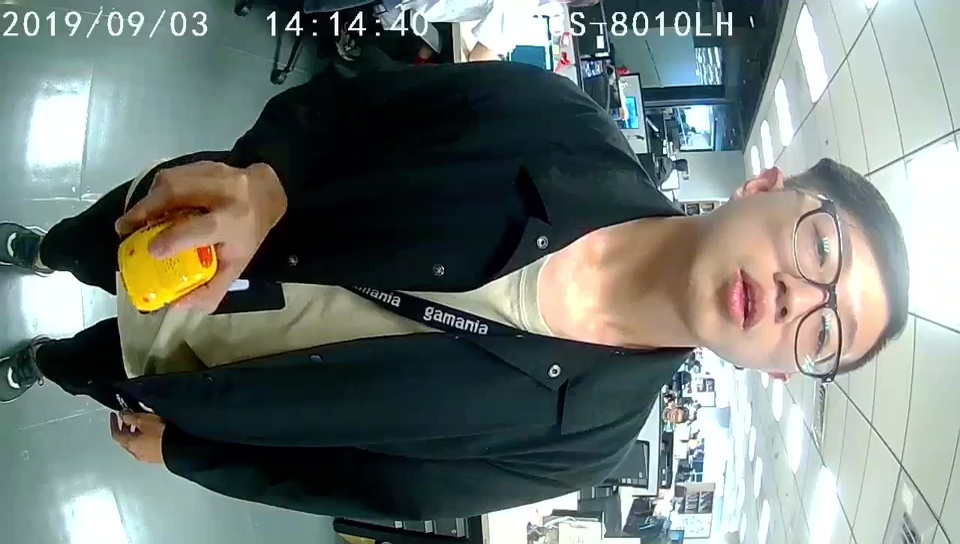car: (115, 223, 218, 312)
